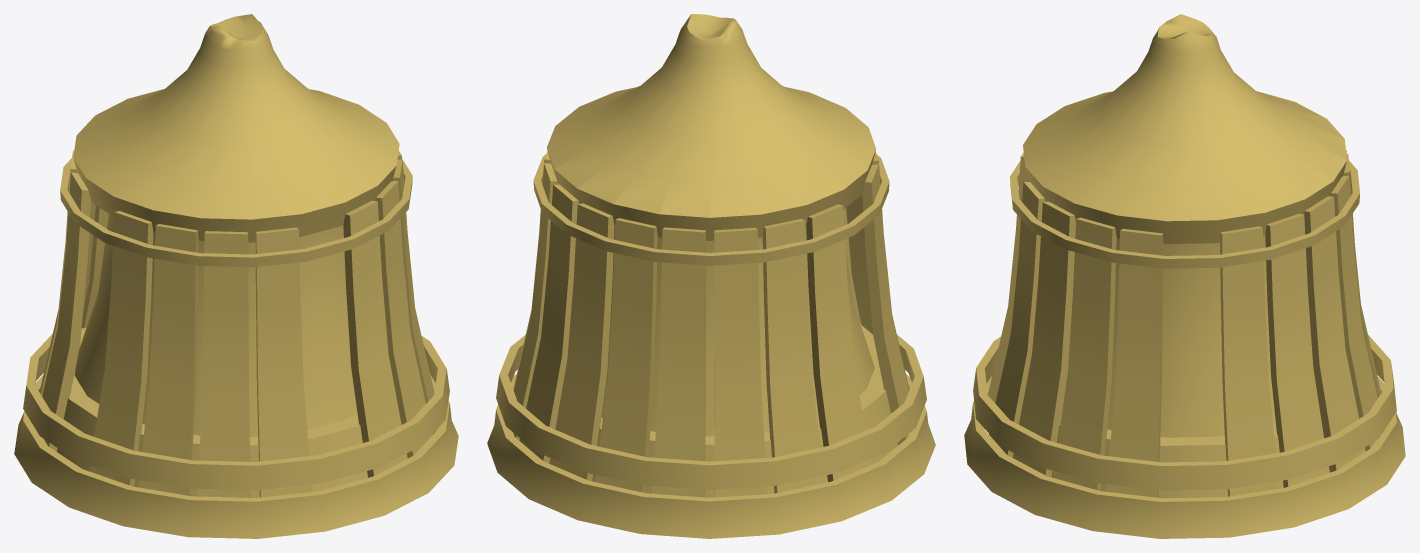
Rendered from GR Lamp 1.fbx.
The picture shows the model from 3 angles, left to right: view 1: azimuth 30°, elevation 25°; view 2: azimuth 150°, elevation 25°; view 3: azimuth 270°, elevation 25°; orthographic projection.
Parts seen in each view (by area): view 1: Boards, Hat, Bands, Core, Base; view 2: Boards, Hat, Bands, Core, Base; view 3: Boards, Hat, Bands, Core, Base.
Part boxes in pixels (x1,y1,x2,y2): Boards: (39,150,437,497); Hat: (73,14,399,242); Bands: (14,158,458,538); Core: (74,214,357,437); Base: (57,327,367,497); Boards: (513,151,909,497); Hat: (546,14,875,240); Bands: (487,154,935,538); Core: (601,227,874,436); Base: (592,322,897,497); Boards: (988,150,1381,497); Hat: (1023,14,1346,243); Bands: (964,160,1405,538); Core: (1107,235,1275,437); Base: (995,364,1329,498).
Size of the model in its own units: 88.17 by 93.24 by 88.17.
